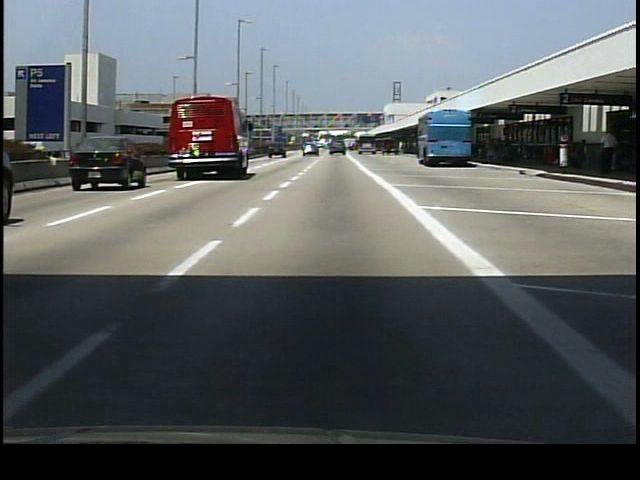person: (600, 130, 619, 175)
